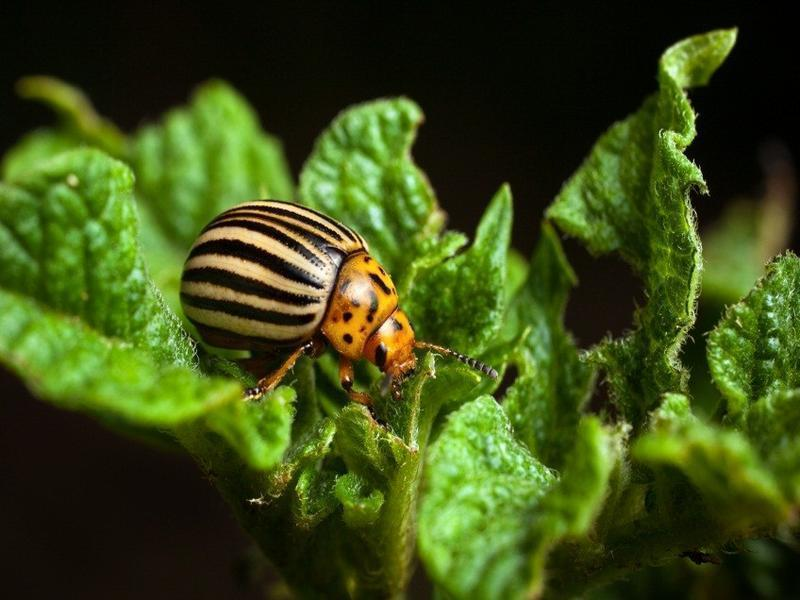hrosc: (181, 200, 428, 396)
